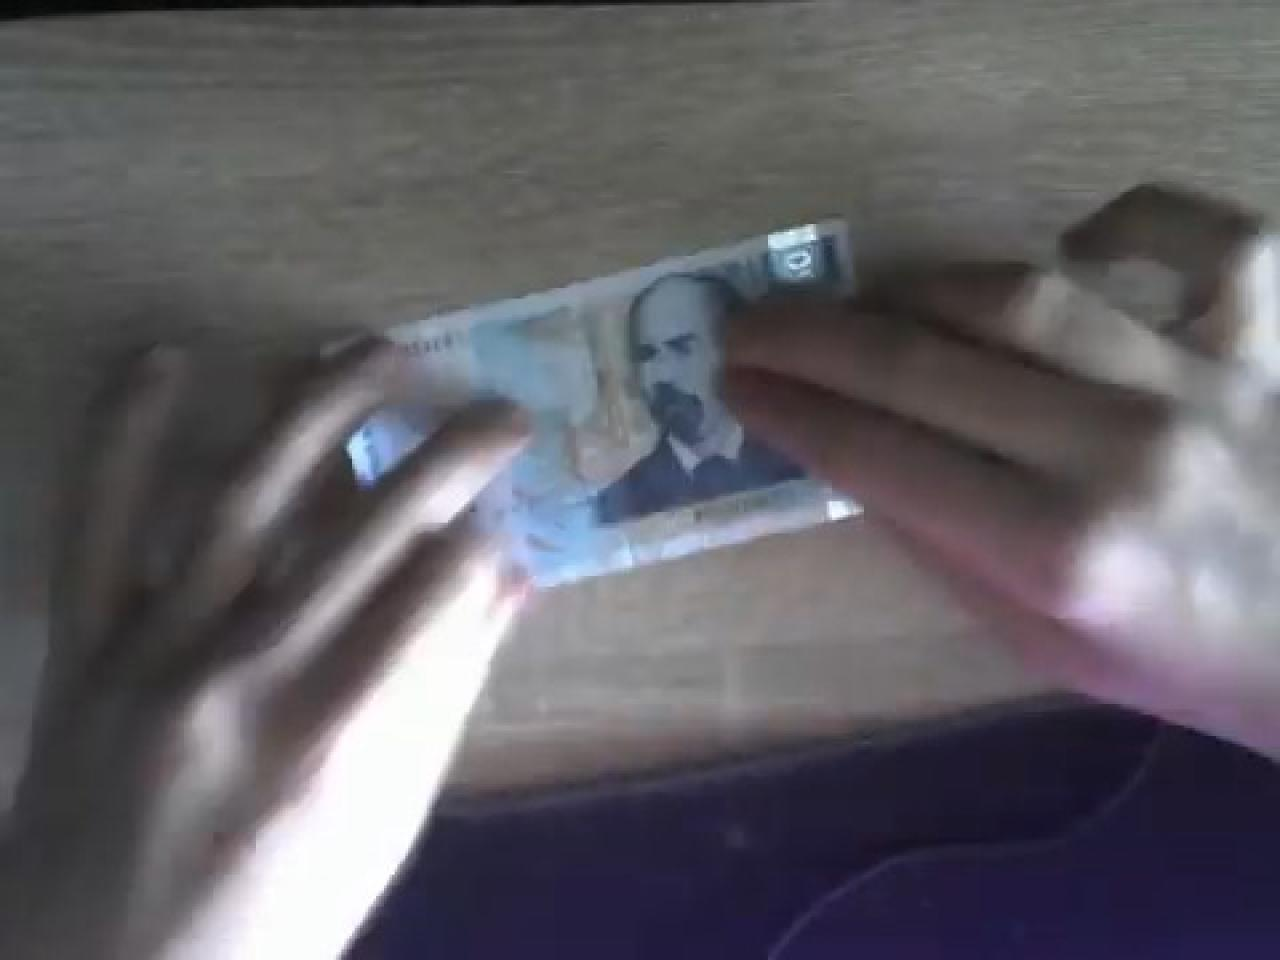20leva: (397, 216, 856, 587)
